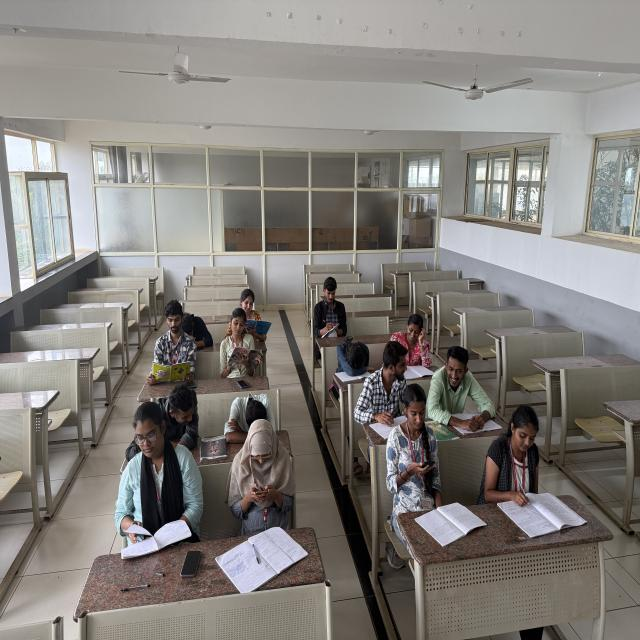Reading: (110, 399, 198, 552), (150, 298, 198, 381), (216, 306, 263, 384), (235, 284, 272, 341)
Sleeping: (221, 390, 280, 442), (329, 334, 376, 386), (180, 308, 217, 354)
Using Phone: (384, 378, 446, 513), (229, 415, 296, 524)
Writing: (477, 403, 563, 519), (352, 340, 413, 441), (390, 310, 432, 375), (309, 275, 349, 343)
